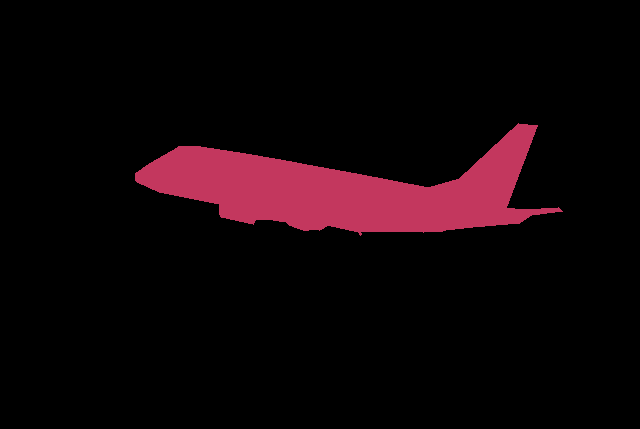Airplane: (135, 123, 563, 236)
